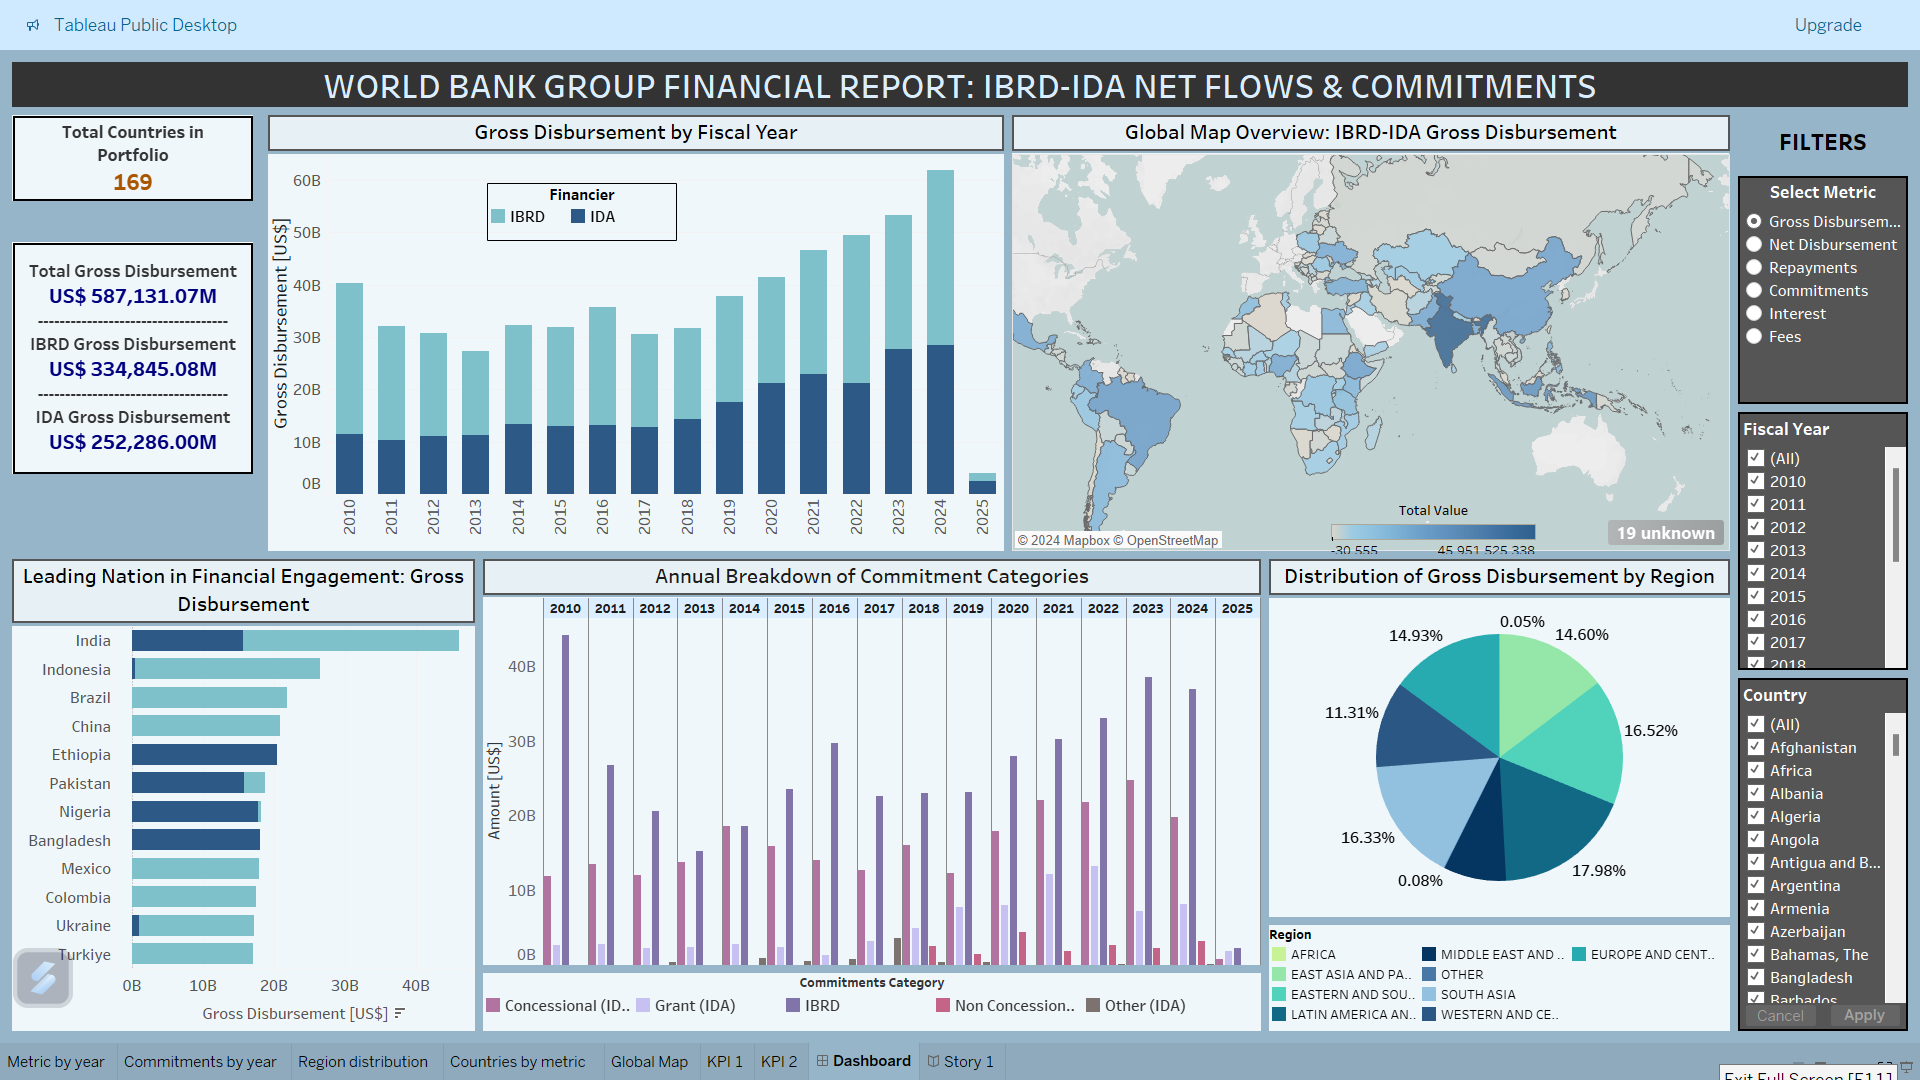

This screenshot's page, from the dashboard's own definition file:
{"tool":"tableau","page":{"name":"Dashboard","canvas":[1000,1000],"units":"permille","ordinal":0},"visuals":[{"type":"title","box":[4.8,10,990.3,66.2]},{"type":"worksheet","title":"KPI 2","mark":"Automatic","box":[4.8,76.2,133.3,126.1]},{"type":"worksheet","title":"Metric by year","mark":"Bar","rows":["Calculation_951948422279024640"],"cols":["fiscal_year"],"box":[138.1,76.2,386.8,438.9]},{"type":"worksheet","title":"Global Map","mark":"Automatic","box":[525,76.2,377.5,438.9]},{"type":"text","box":[902.5,76.2,92.7,59.8]},{"type":"legend","title":"Metric by year","param":"[odata.0gjaz6s0yukk3q1h2w7l41dsnjyo].[none:financier:nk]","box":[253.7,133.6,99,58.7]},{"type":"parameter","param":"[Parameters].[Parameter 1]","box":[902.5,136,92.7,233.6]},{"type":"worksheet","title":"KPI 1","mark":"Text","box":[4.8,202.2,133.3,312.8]},{"type":"filter","title":"Countries by metric ","param":"[odata.0gjaz6s0yukk3q1h2w7l41dsnjyo].[none:fiscal_year:nk]","box":[902.5,369.6,92.7,263.1]},{"type":"legend","title":"Global Map","param":"[odata.0gjaz6s0yukk3q1h2w7l41dsnjyo].[sum:Calculation_951948422279024640:qk]","box":[690.9,454.6,111.2,53.8]},{"type":"worksheet","title":"Countries by metric ","mark":"Automatic","rows":["country"],"cols":["Calculation_951948422279024640"],"box":[4.8,515.1,244.7,474.9]},{"type":"worksheet","title":"Commitments by year","mark":"Bar","cols":["Fiscal Year (copy)_1098596885212565507"],"box":[249.6,515.1,409.1,410]},{"type":"worksheet","title":"Region distribution","mark":"Pie","box":[658.6,515.1,243.9,361.9]},{"type":"filter","title":"Region distribution","param":"[odata.0gjaz6s0yukk3q1h2w7l41dsnjyo].[none:country:nk]","box":[902.5,632.7,92.7,357.3]},{"type":"legend","title":"Region distribution","param":"[odata.0gjaz6s0yukk3q1h2w7l41dsnjyo].[none:region:nk]","box":[658.6,876.9,243.9,113.1]},{"type":"legend","title":"Commitments by year","param":"[odata.0gjaz6s0yukk3q1h2w7l41dsnjyo].[:Measure Names]","box":[249.6,925,409.1,65]}]}

Visuals, with their boxes on the dashboard's canvas, which has no fixed pixel size, in thousandths of its width and height (x1, y1, x2, y2). These are canvas units, not pixel positions in the 1920x1080 screenshot, which may show the page scaled, cropped or inside an application window:
title: box=[5, 10, 995, 76]
"KPI 2" worksheet: box=[5, 76, 138, 202]
"Metric by year" worksheet (Bar marks): box=[138, 76, 525, 515]
"Global Map" worksheet: box=[525, 76, 902, 515]
text: box=[902, 76, 995, 136]
"Metric by year" legend: box=[254, 134, 353, 192]
parameter: box=[902, 136, 995, 370]
"KPI 1" worksheet (Text marks): box=[5, 202, 138, 515]
"Countries by metric " filter: box=[902, 370, 995, 633]
"Global Map" legend: box=[691, 455, 802, 508]
"Countries by metric " worksheet: box=[5, 515, 250, 990]
"Commitments by year" worksheet (Bar marks): box=[250, 515, 659, 925]
"Region distribution" worksheet (Pie marks): box=[659, 515, 902, 877]
"Region distribution" filter: box=[902, 633, 995, 990]
"Region distribution" legend: box=[659, 877, 902, 990]
"Commitments by year" legend: box=[250, 925, 659, 990]
